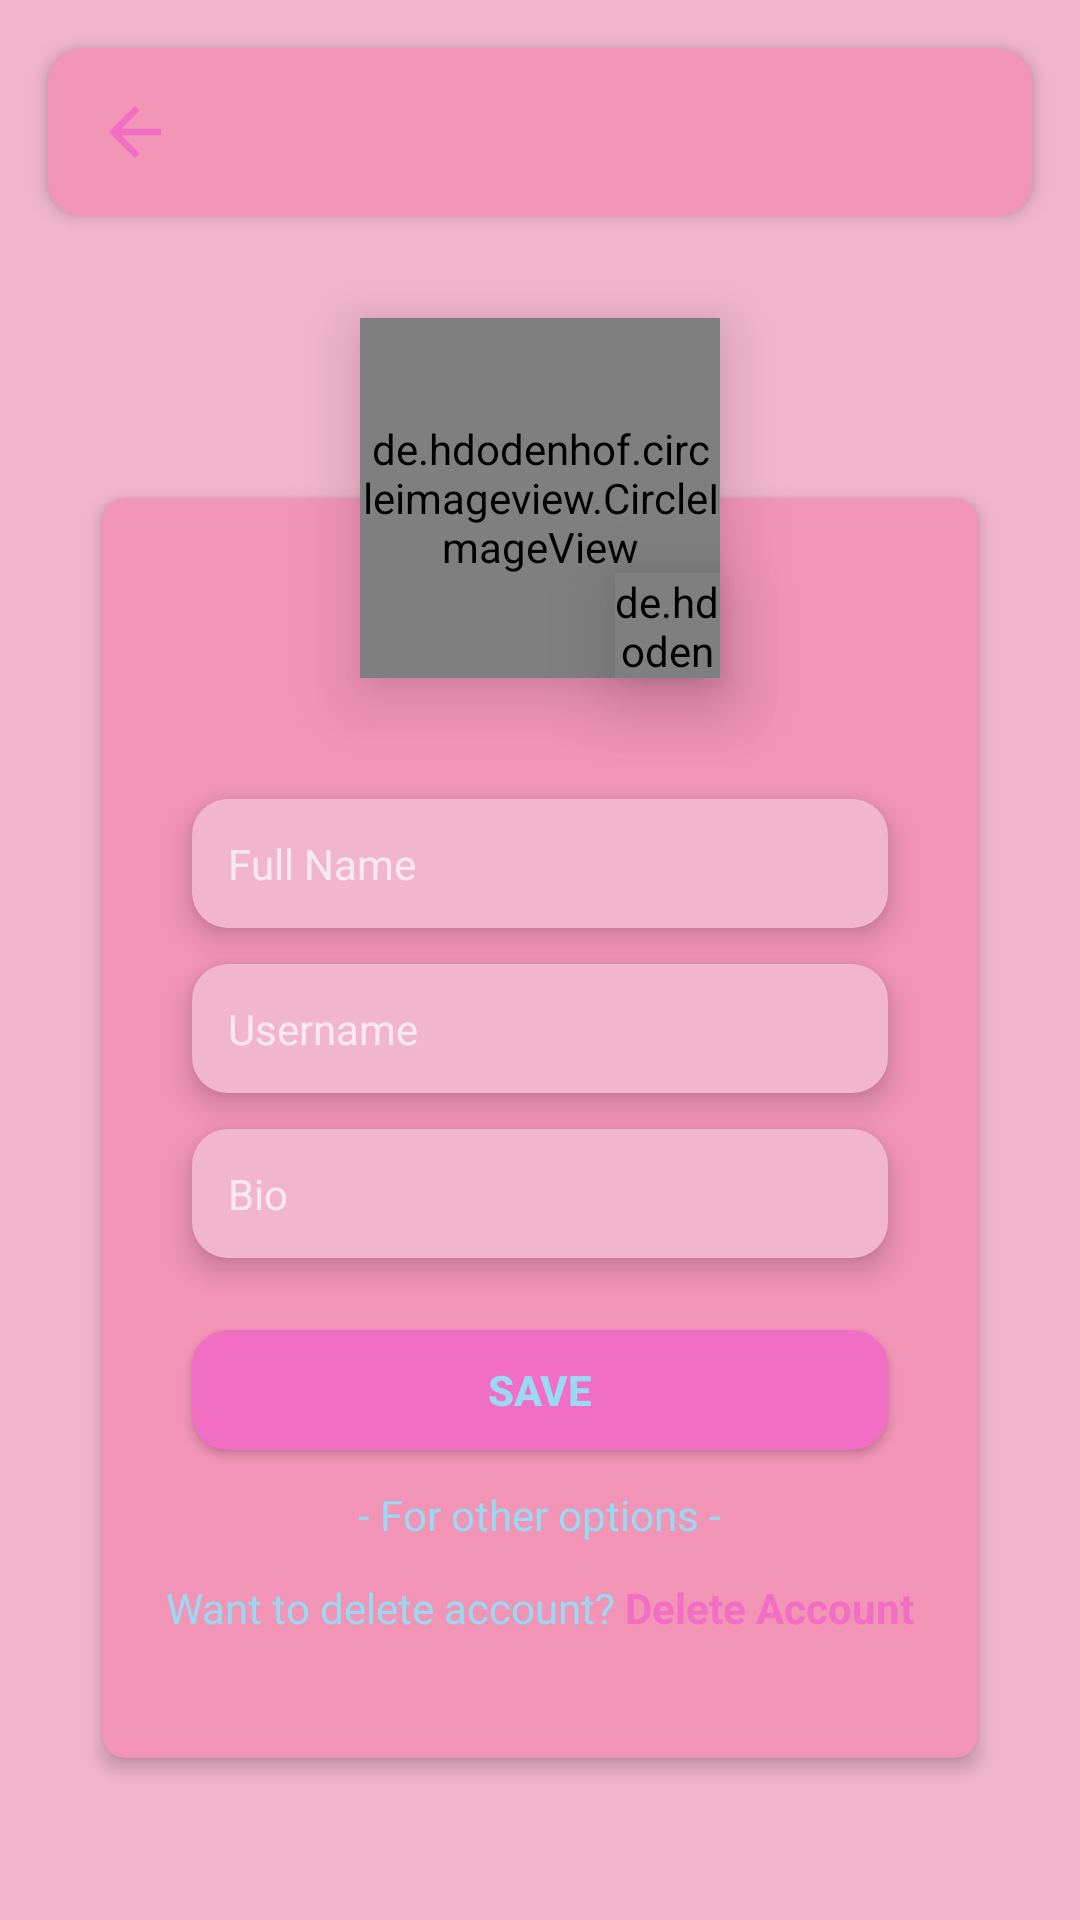

Point at icon controls on the screen. Image size 1080px×1920px, points as (x=x, y=y).
back: (x=135, y=132)
